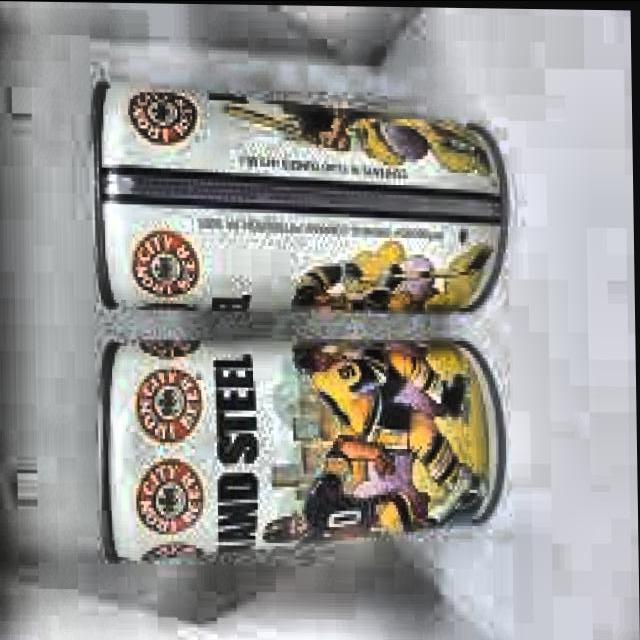litter: (80, 70, 522, 322), (90, 319, 516, 571)
